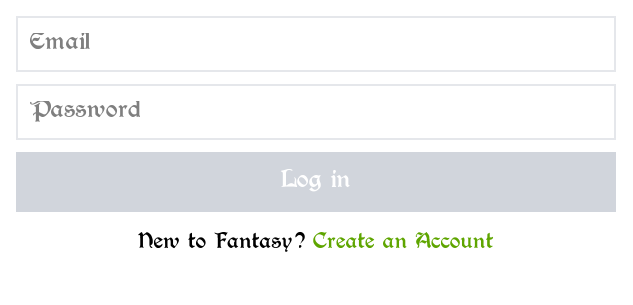
Test: Log In › can see password validation error
The width and height of the screenshot is (633, 305).
Type "some_email_6@gmail.com" into the field with placeholder "Email" at (316, 44), box [16, 16, 616, 72]
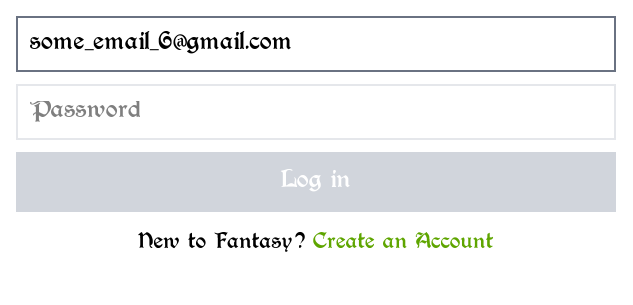
Type "12345" into the password field with placeholder "Password" at (316, 112), box [16, 84, 616, 140]
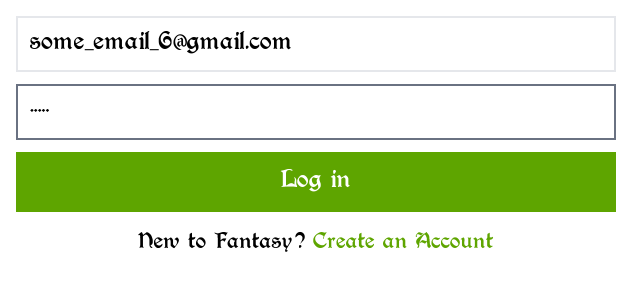
Clear the password field with placeholder "Password" at (316, 112), box [16, 84, 616, 140]
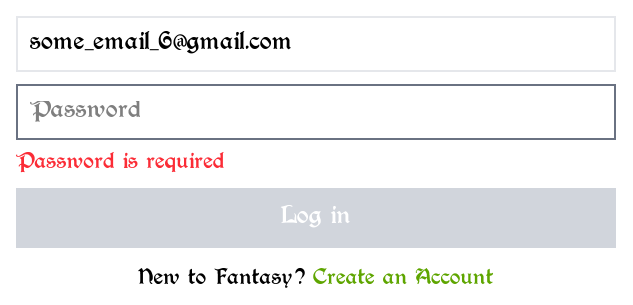
Expected: the message "Password is required" is shown, [16, 156, 225, 172]
